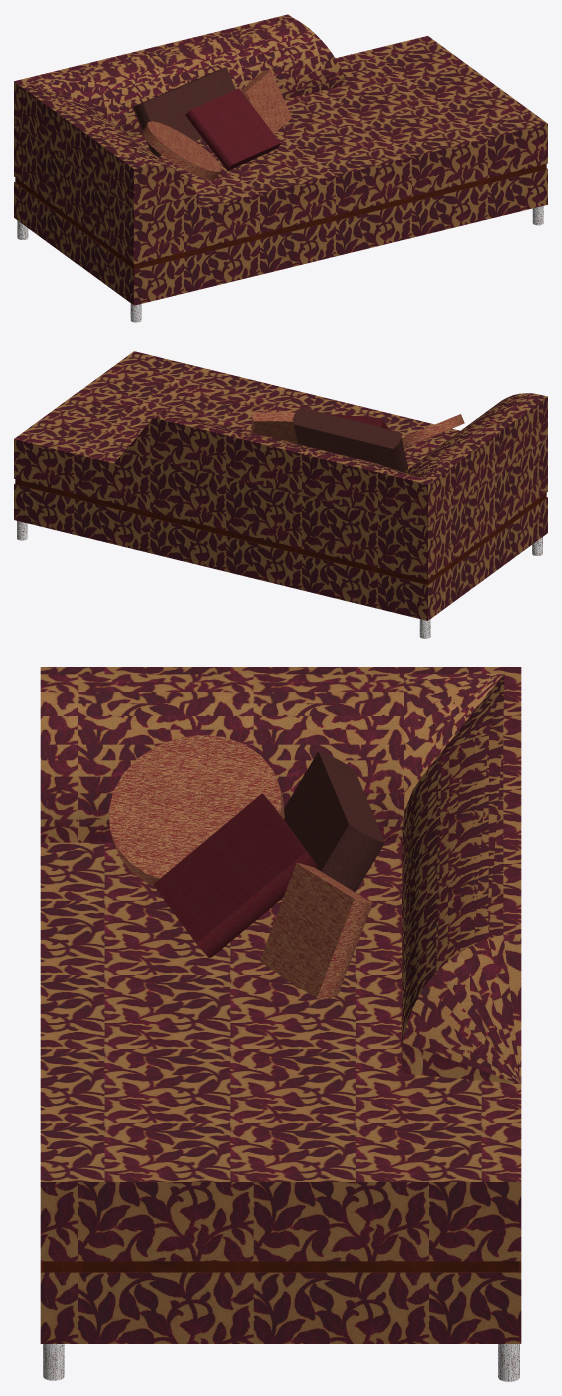
3 renders of one model, top to bottom at view 1: azimuth 30°, elevation 25°; view 2: azimuth 150°, elevation 25°; view 3: azimuth 270°, elevation 25°, orthographic. The views are drawn at different scales.
Parts seen in each view (by area): view 1: SketchUp (×8); view 2: SketchUp (×7); view 3: SketchUp (×7).
Boxes of the visible parts, left/top/right/bottom form: SketchUp (×8): left=14, top=14, right=547, bottom=305; SketchUp (×7): left=14, top=351, right=547, bottom=620; SketchUp (×7): left=40, top=667, right=521, bottom=1343.
Bounding box in the file's own units: 131 × 65.75 × 48.22.
Materials: 7 (6 with a texture image).
